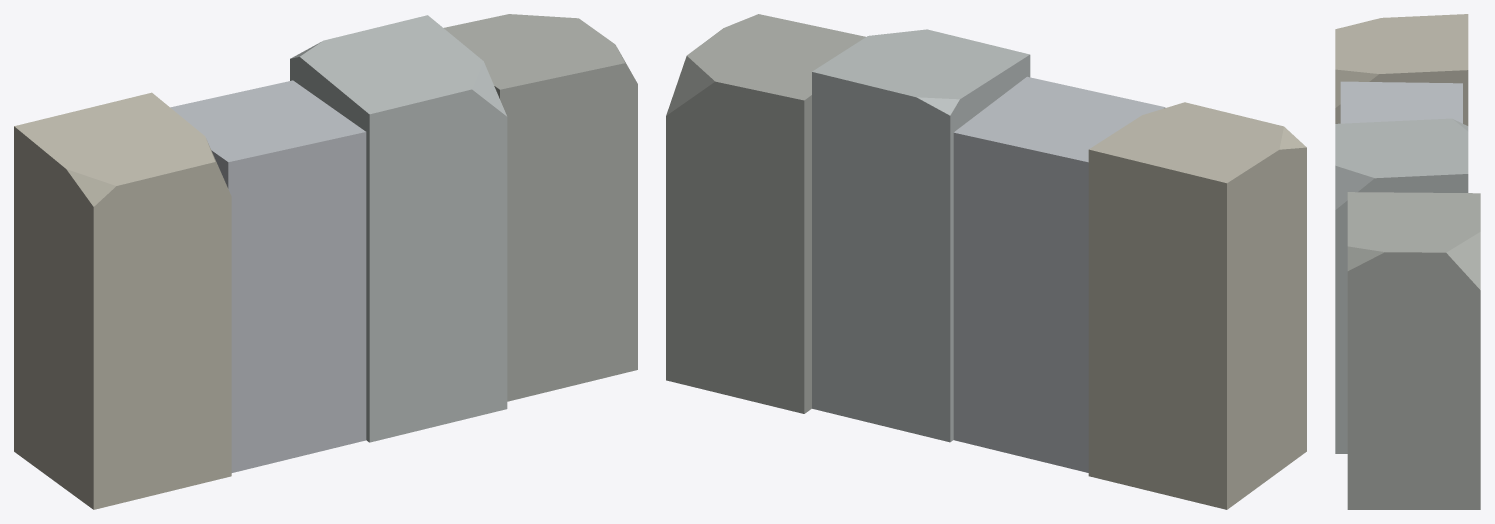
Rendered from Rocks_Square_m_02.fbx.
3 renders of one model, left to right at view 1: azimuth 30°, elevation 25°; view 2: azimuth 150°, elevation 25°; view 3: azimuth 270°, elevation 25°, orthographic. The views are drawn at different scales.
Parts seen in each view (by area): view 1: Rocks_Square_m_02; view 2: Rocks_Square_m_02; view 3: Rocks_Square_m_02.
Boxes of the visible parts, x1,y1,x2,y2 form: Rocks_Square_m_02: (14,14,637,509); Rocks_Square_m_02: (666,14,1306,509); Rocks_Square_m_02: (1335,14,1480,509).
Size of the model in its own units: 173 by 100 by 47.24.
